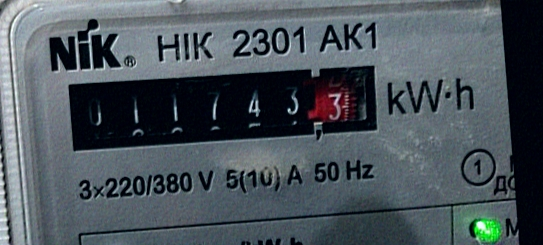0: (85, 92, 106, 130)
1: (167, 87, 185, 122), (130, 90, 143, 124)
3: (281, 81, 303, 117), (326, 90, 347, 124)
4: (244, 84, 264, 119)
7: (205, 86, 226, 121)
screen: (54, 47, 394, 167)
